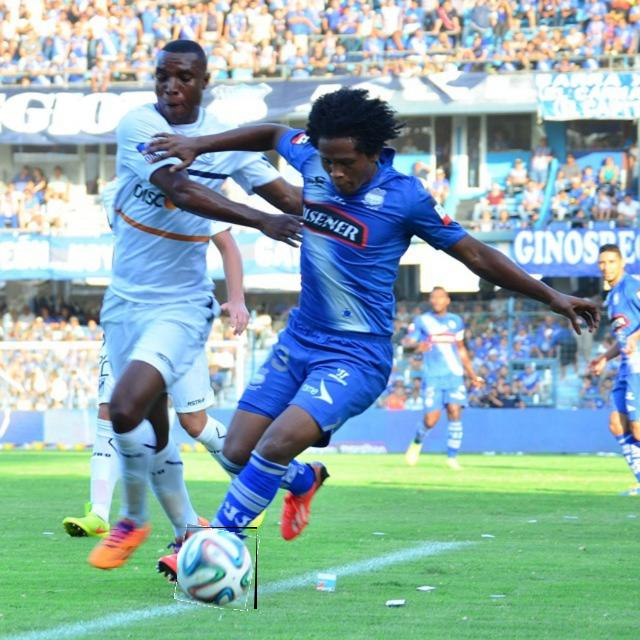Football: (177, 527, 257, 609)
